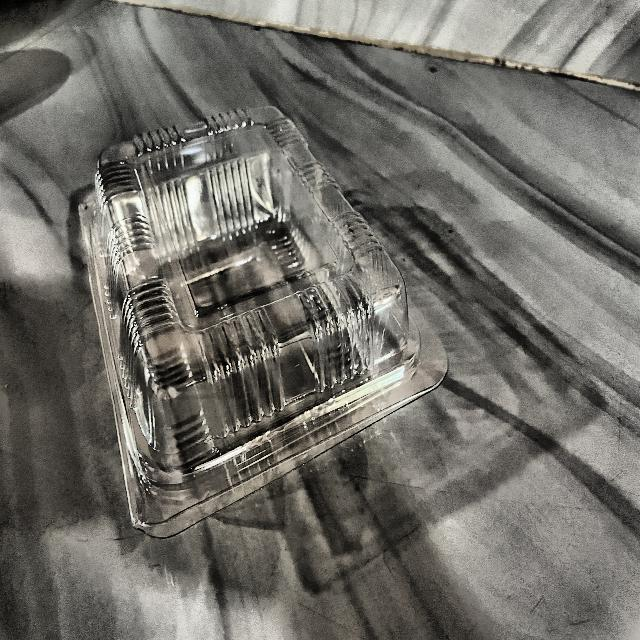plastic container: (73, 105, 415, 526)
